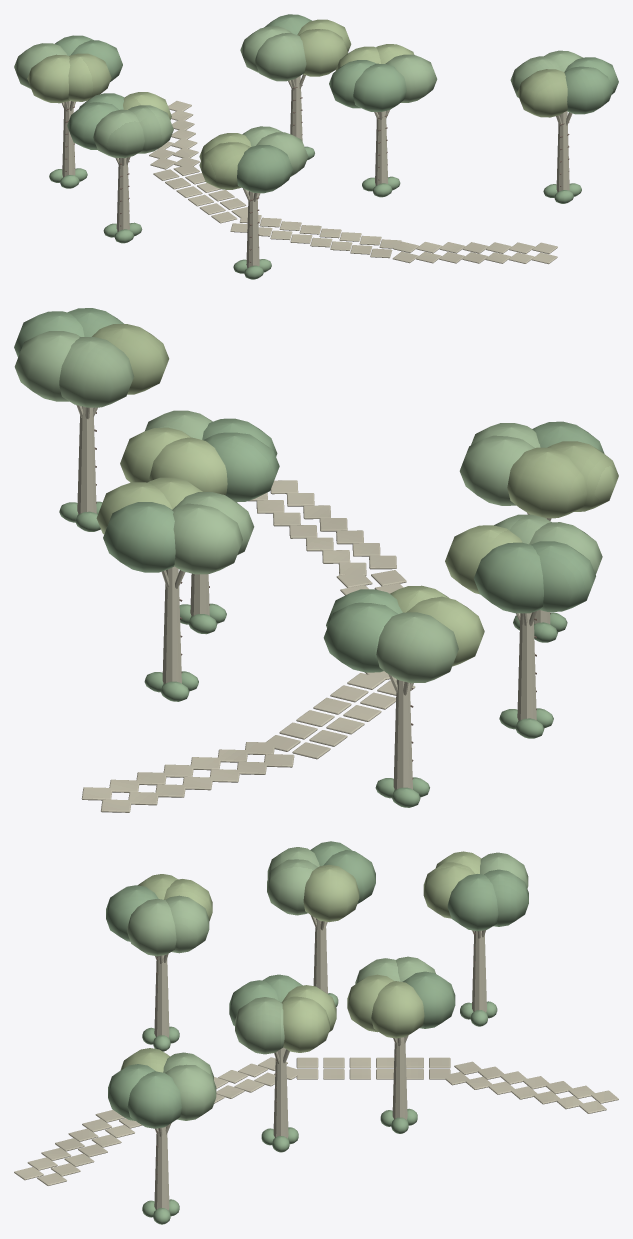
Rendered from village-station-lane.glb.
3 renders of one model, top to bottom at view 1: azimuth 30°, elevation 25°; view 2: azimuth 150°, elevation 25°; view 3: azimuth 270°, elevation 25°, orthographic. The views are drawn at different scales.
Visible parts, largest first — view 1: Forest hamlet; view 2: Forest hamlet; view 3: Forest hamlet.
Boxes of the visible parts, <box> form: Forest hamlet: <box>14,14,618,279</box>; Forest hamlet: <box>14,308,618,812</box>; Forest hamlet: <box>14,841,618,1224</box>.
Size of the model in its own units: 15.59 by 4.29 by 15.24.
Materials: 7 (7 with a texture image).
